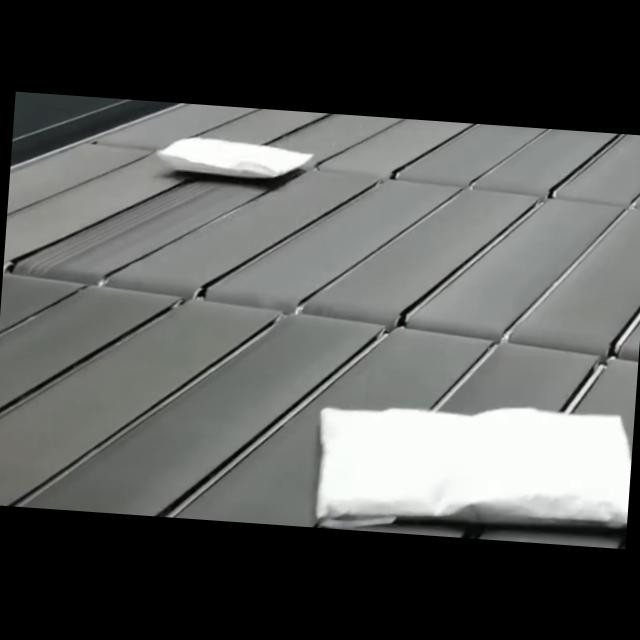mailer: (313, 393, 634, 542), (160, 132, 312, 184)
